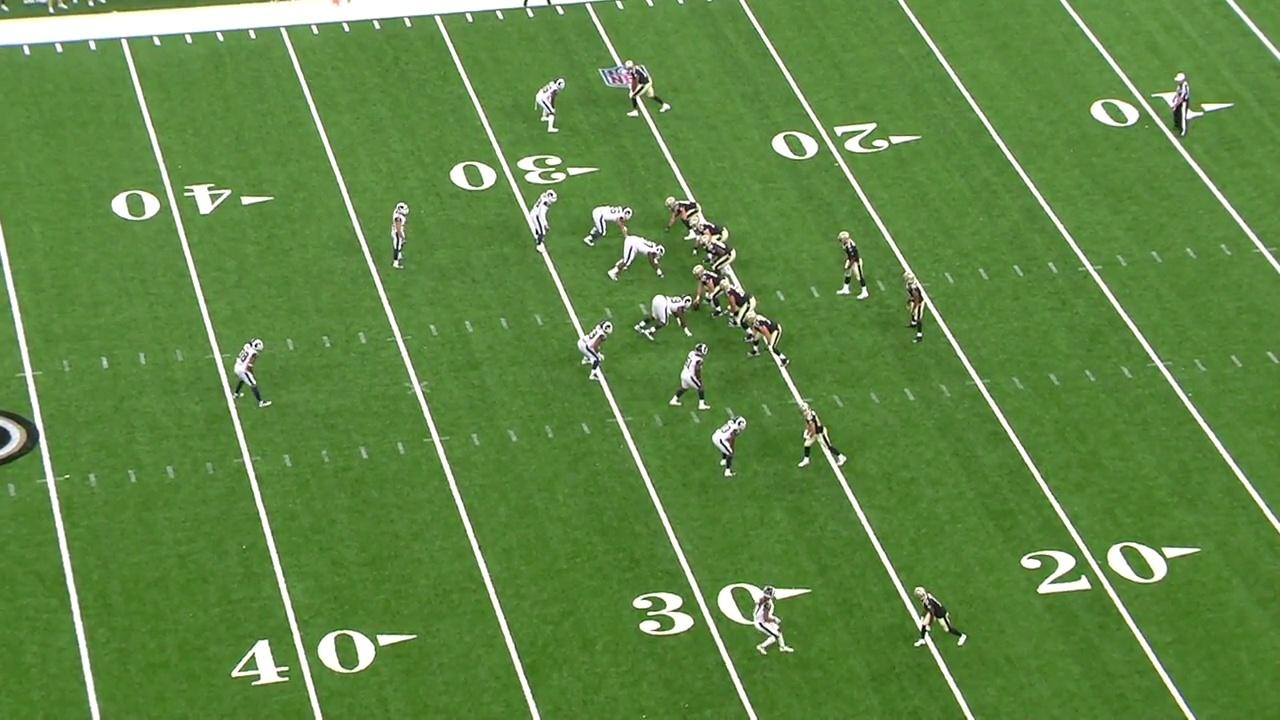player: (902, 581, 971, 655), (791, 396, 856, 474), (616, 52, 671, 124), (228, 332, 275, 407), (747, 585, 794, 658), (668, 336, 713, 409), (574, 318, 619, 385), (636, 291, 695, 337), (744, 311, 791, 367), (614, 233, 664, 284), (834, 230, 869, 302), (898, 265, 927, 351), (523, 191, 563, 250), (713, 413, 748, 480), (583, 202, 637, 245), (719, 282, 760, 330), (384, 198, 411, 270), (685, 265, 725, 311), (536, 73, 567, 132), (698, 237, 742, 270), (688, 216, 729, 243), (662, 196, 707, 220)
ref: (1164, 68, 1192, 143)
